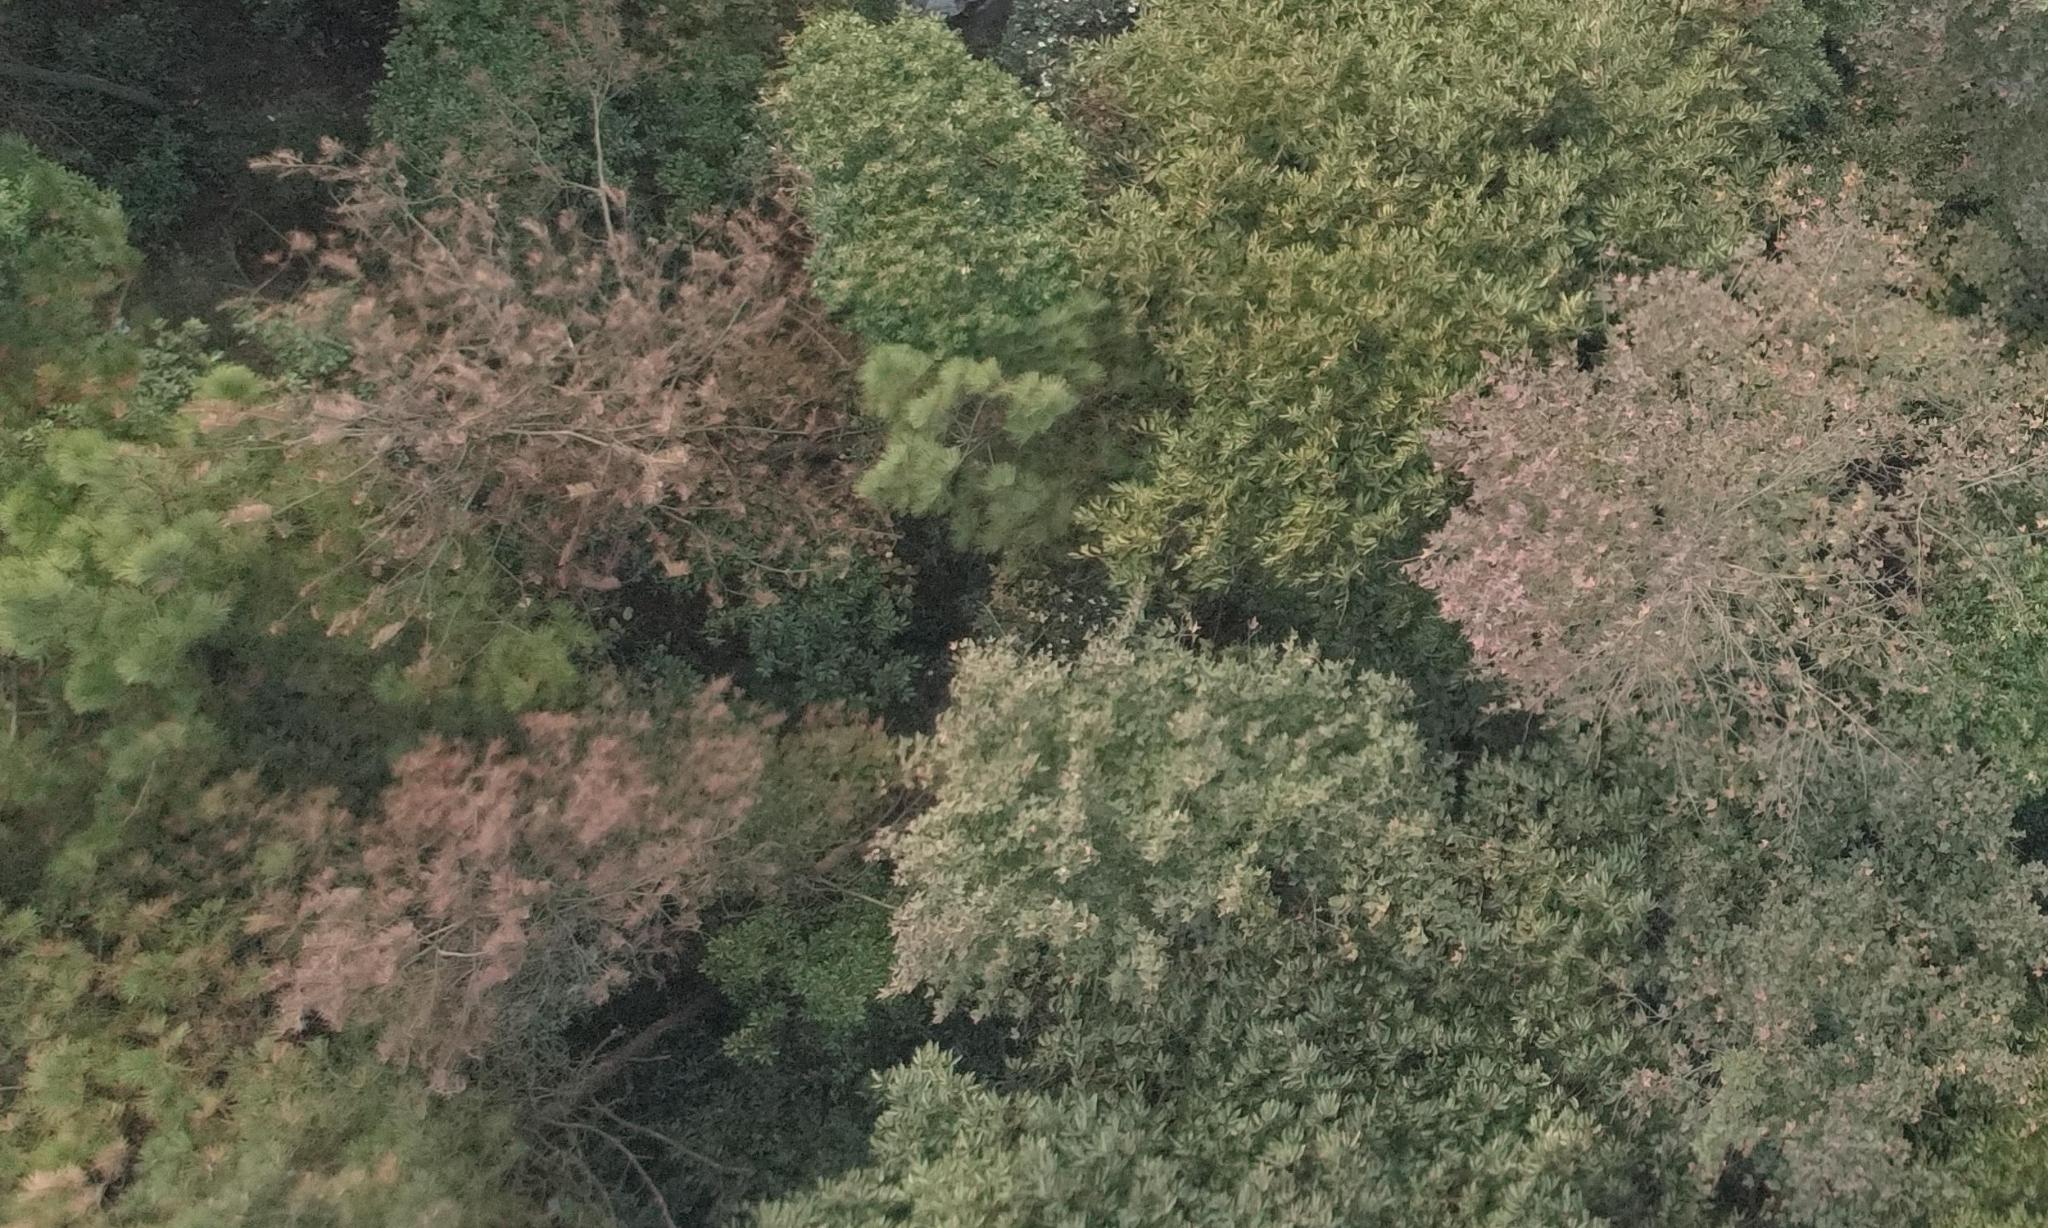heavy: (243, 142, 800, 567), (262, 689, 776, 1067)
light: (16, 959, 225, 1205)
